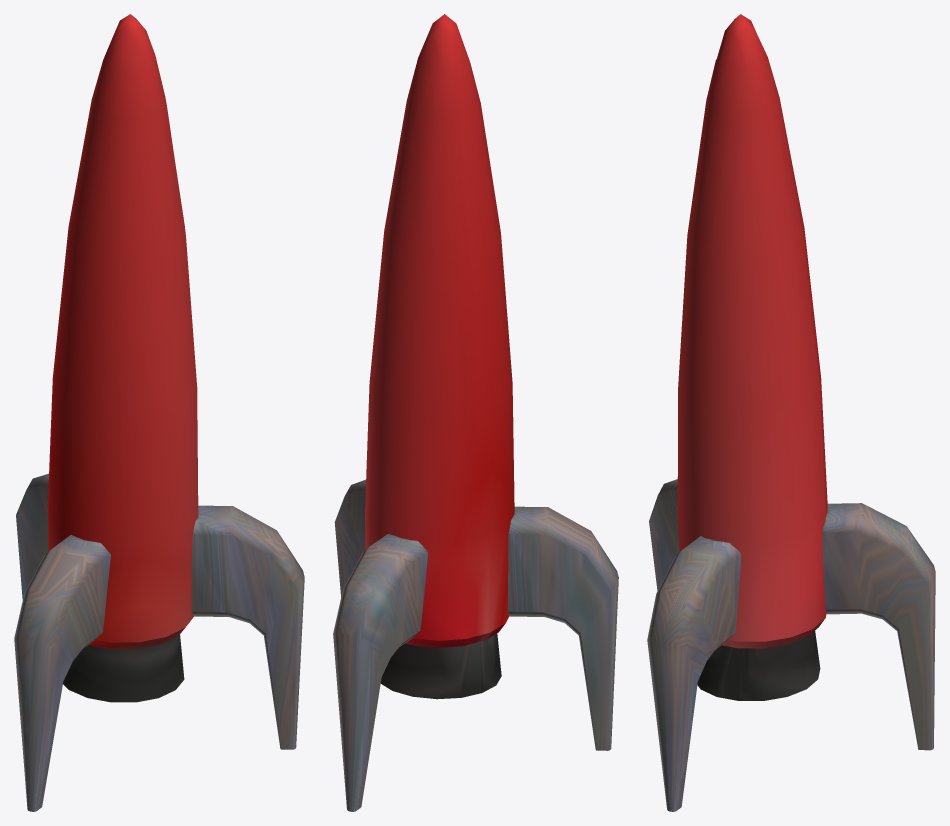
Rendered from Colony_Rocket_Art.glb.
3 renders of one model, left to right at view 1: azimuth 30°, elevation 25°; view 2: azimuth 150°, elevation 25°; view 3: azimuth 270°, elevation 25°, orthographic.
Parts seen in each view (by area): view 1: Colony_Rocket_Art; view 2: Colony_Rocket_Art; view 3: Colony_Rocket_Art.
Part boxes in pixels (x1=…): Colony_Rocket_Art: x1=14, y1=14, x2=304, y2=811; Colony_Rocket_Art: x1=333, y1=14, x2=618, y2=811; Colony_Rocket_Art: x1=647, y1=14, x2=935, y2=811.
Bounding box in the file's own units: 2.05 × 5.13 × 1.83.
Materials: 1 (1 with a texture image).
